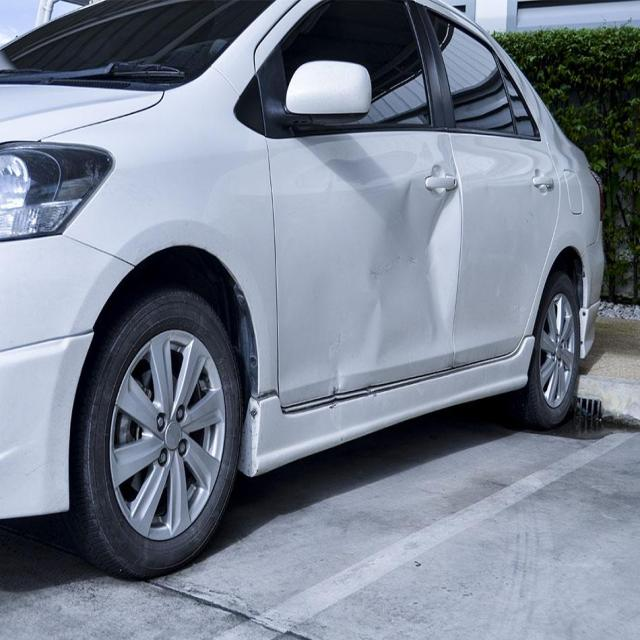dent: (330, 177, 462, 395)
